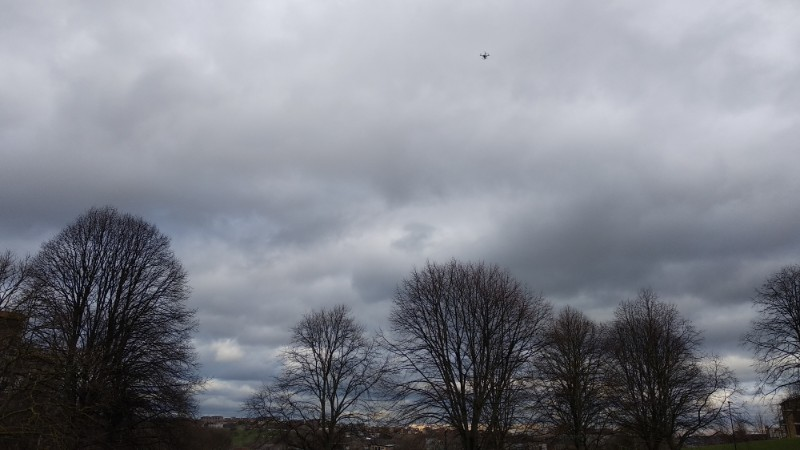drone: (479, 52, 490, 61)
